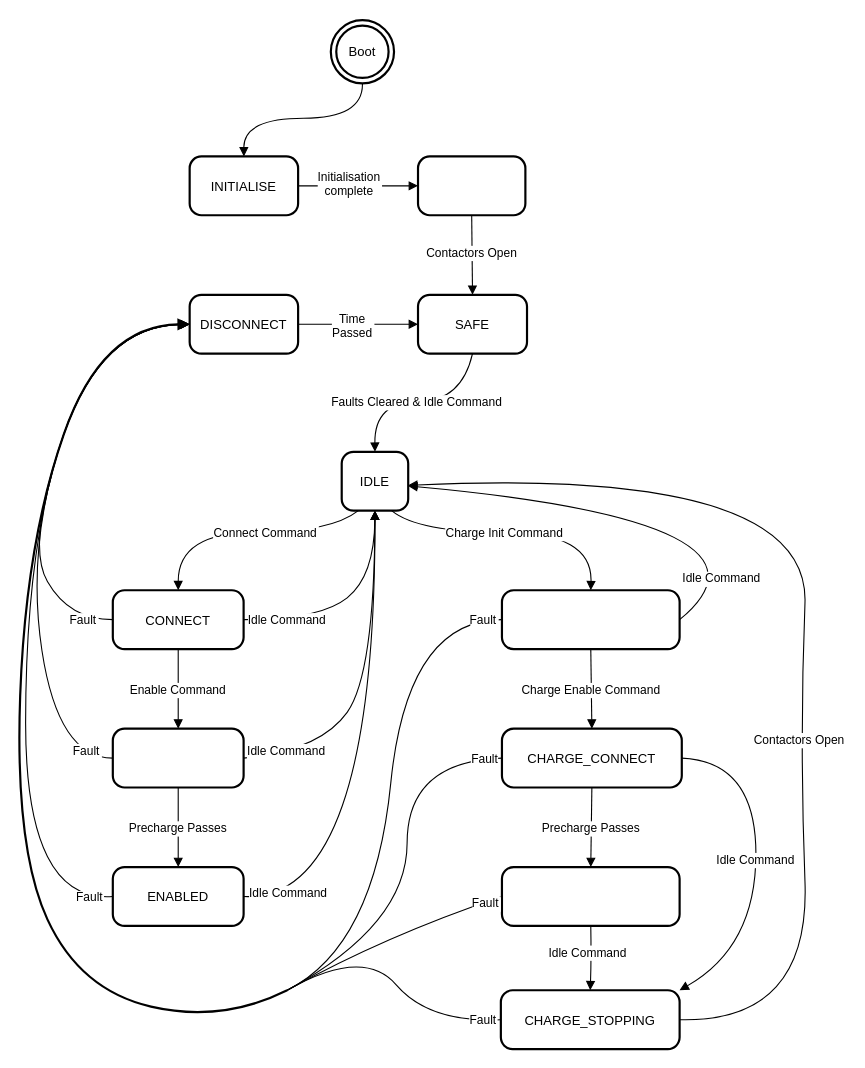
The diagram is 865 pixels wide and 1068 high, and some of its shapes have lost their labels. Here are the shapes that lost their labels. From the top down, the centre of each, then its label:
At (x=471, y=185): "CALIBRATE".
At (x=590, y=619): "CHARGE_INIT".
At (x=177, y=757): "PRECHARGE".
At (x=590, y=896): "CHARGE_ENABLED".
